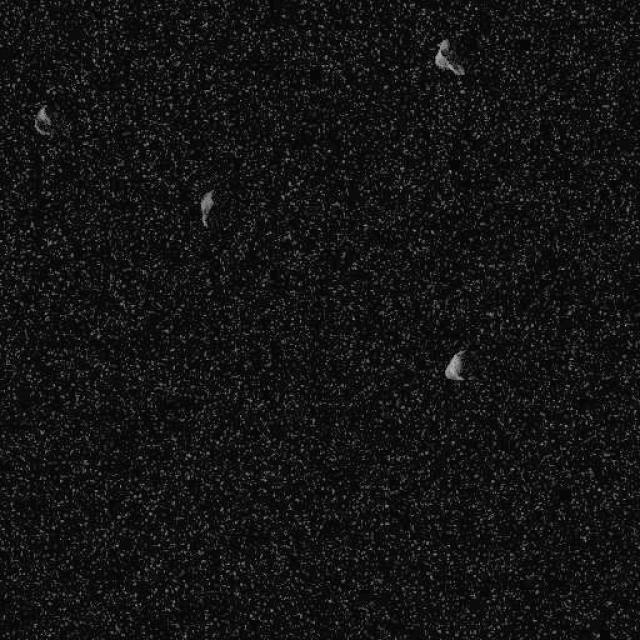D2: (433, 38, 465, 76), (442, 349, 468, 381), (199, 188, 215, 228), (32, 104, 52, 136)
